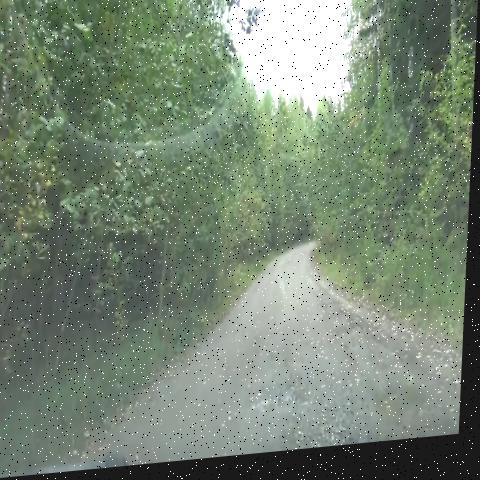pothole: (265, 370, 322, 429)
